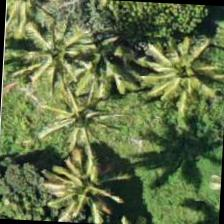Kelapa_Sawit: (126, 15, 221, 110), (10, 15, 105, 110), (30, 64, 124, 160), (54, 10, 148, 105), (31, 137, 127, 223), (3, 0, 69, 45)
